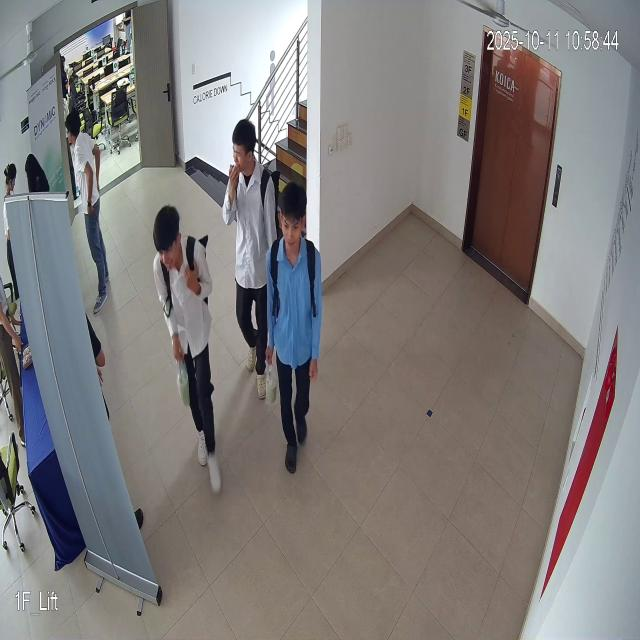face: (154, 202, 196, 276), (276, 174, 308, 257), (224, 112, 256, 178)
